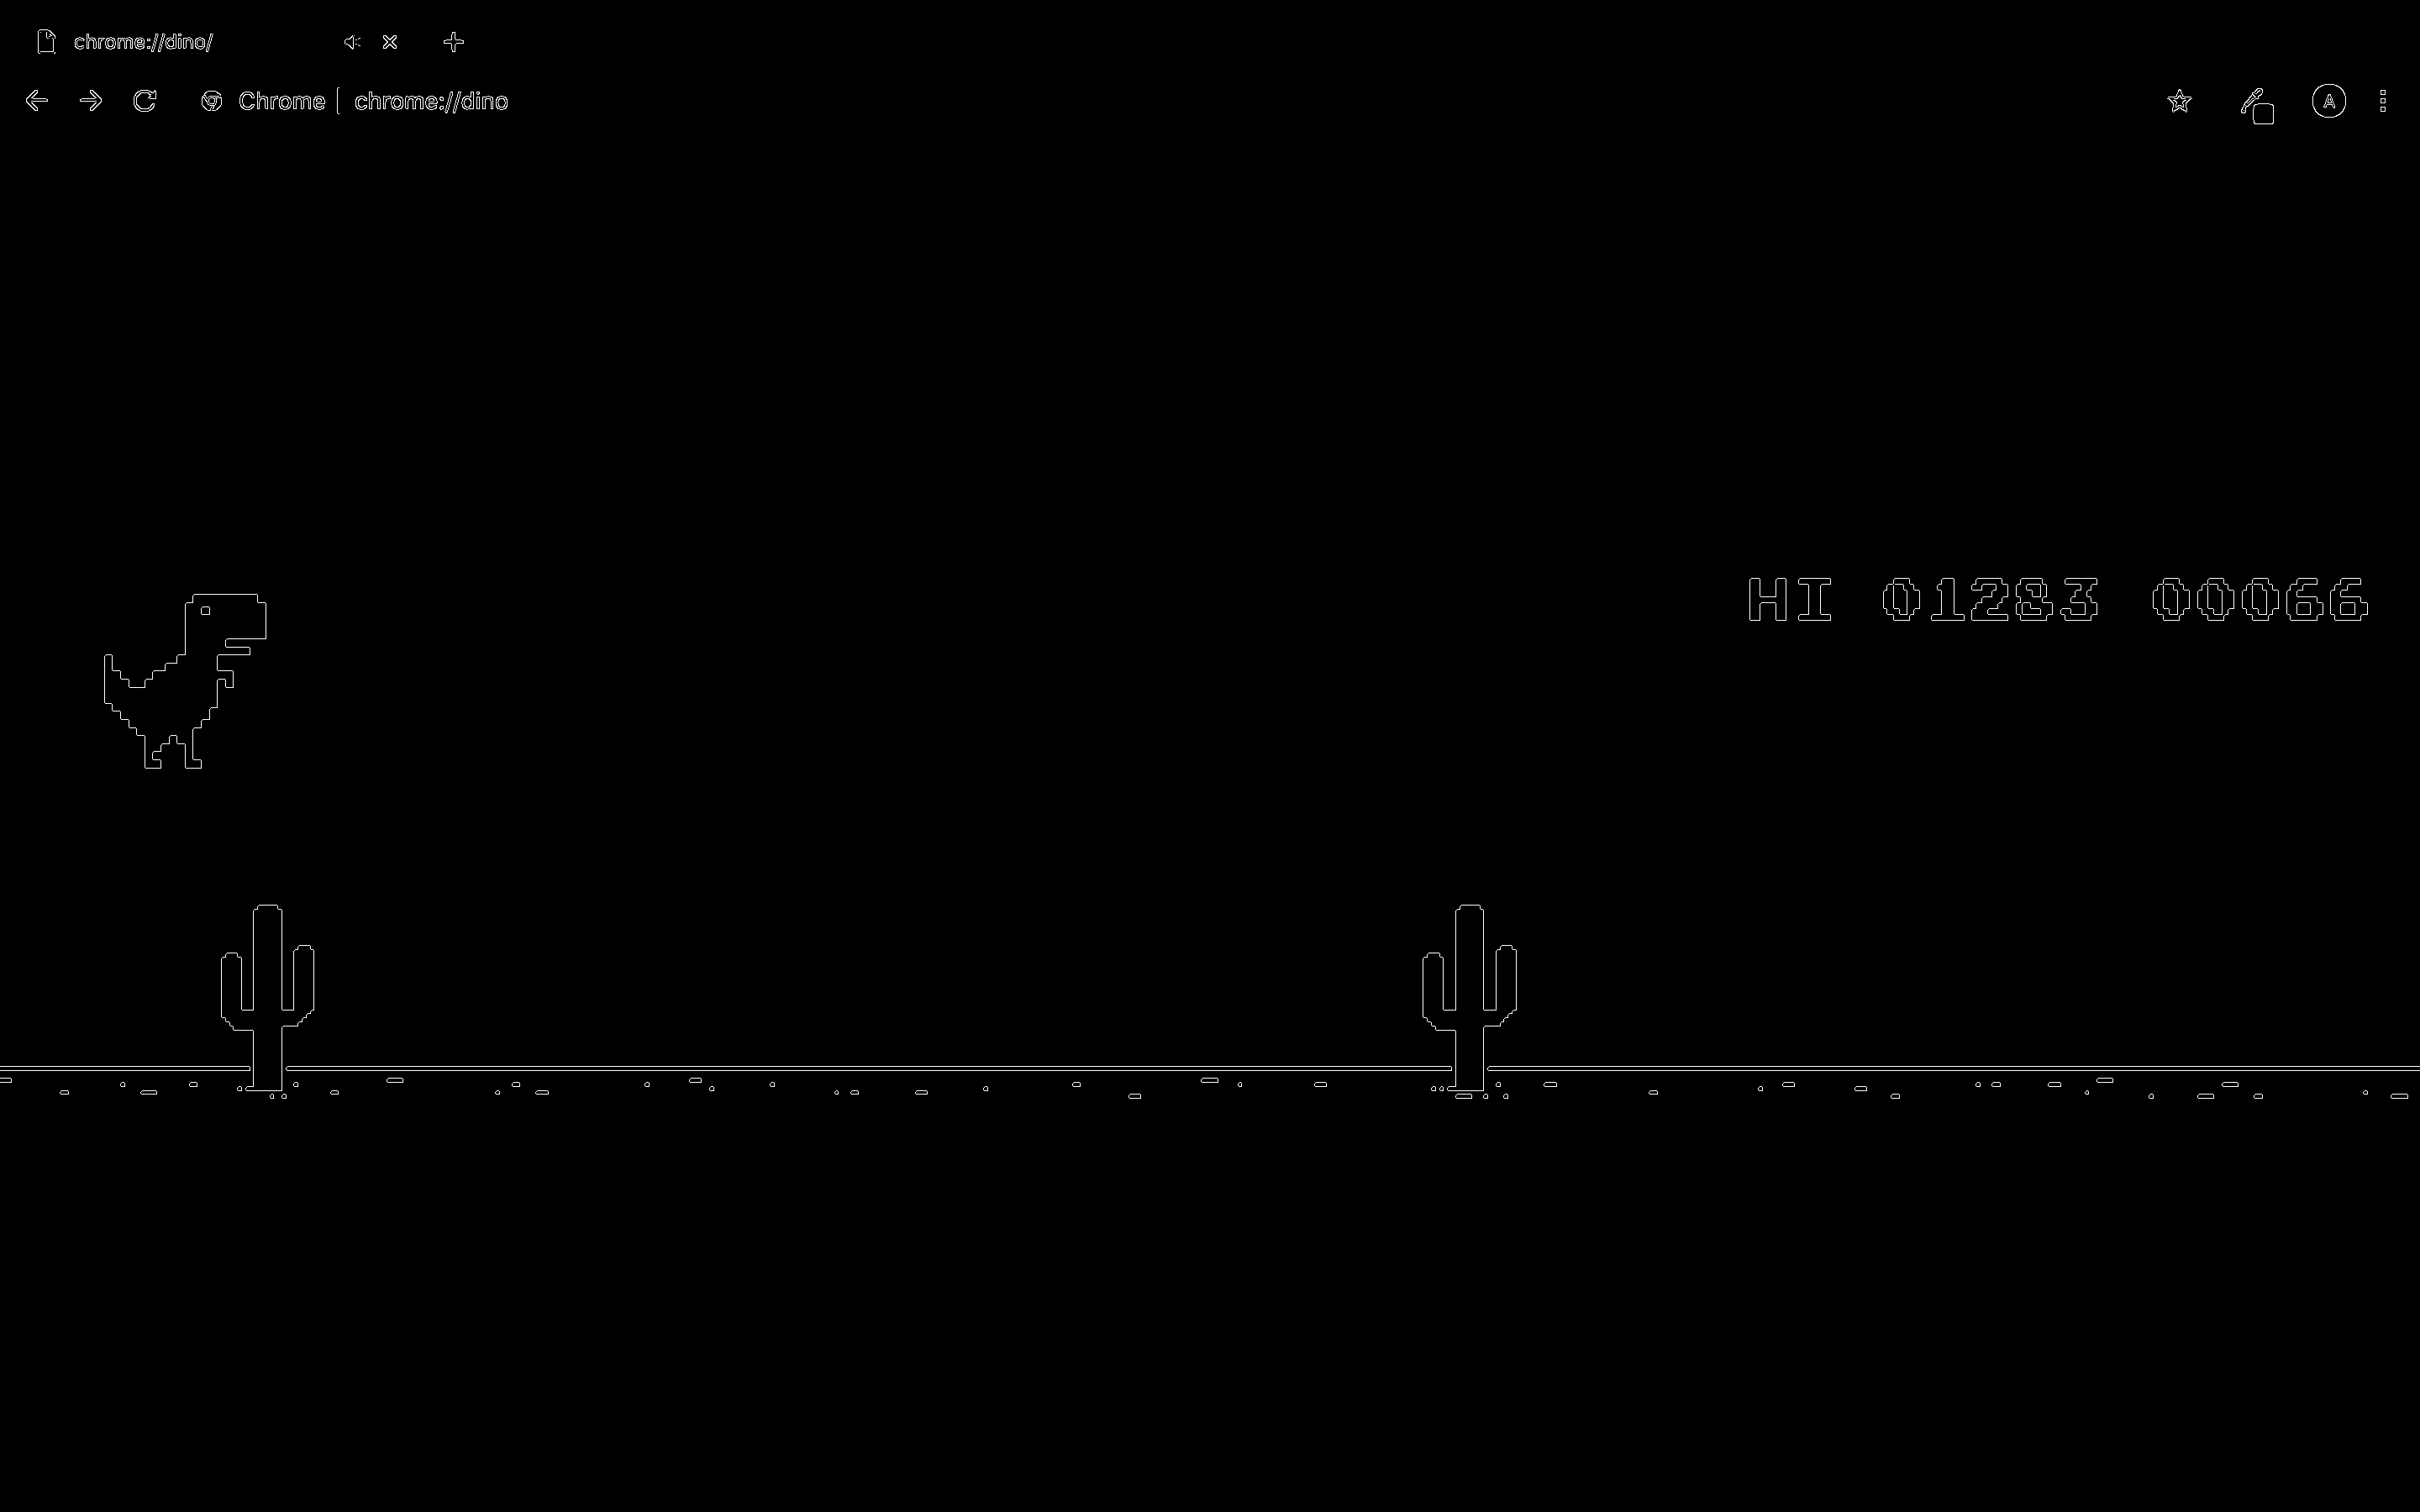Cactus: (1408, 906, 1526, 1092), (214, 906, 319, 1089)
Dino: (98, 594, 279, 775)
